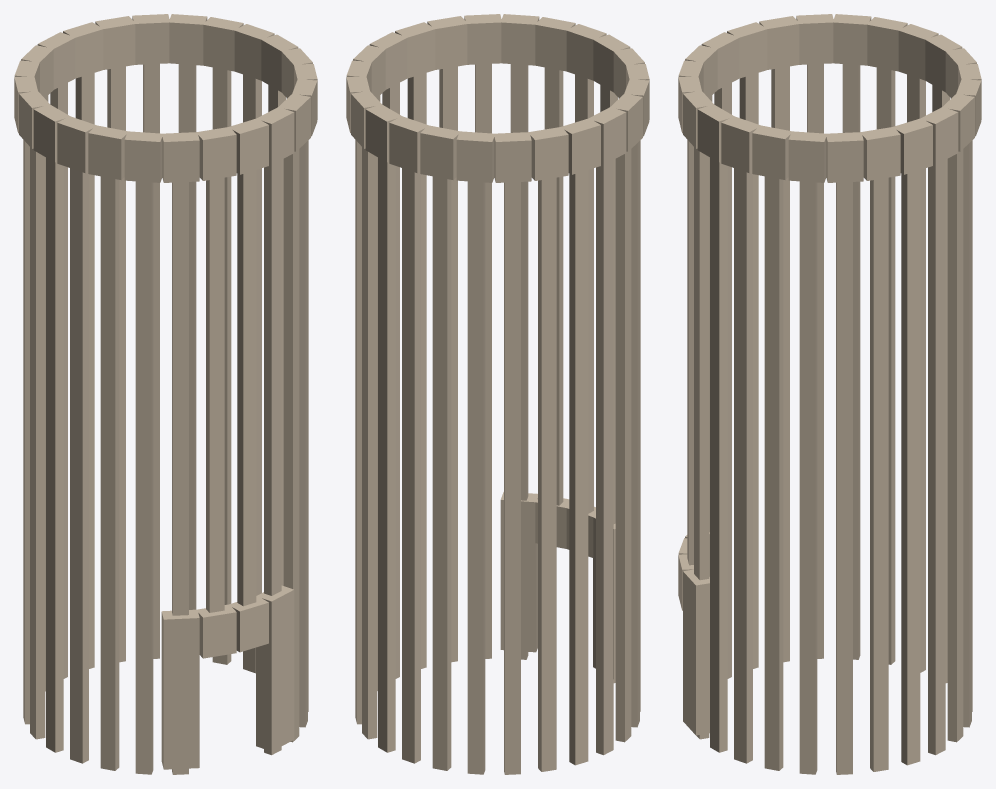
The model's file is Mighty Leelo (4).glb.
3 views of the same model, side by side, from view 1: azimuth 30°, elevation 25°; view 2: azimuth 150°, elevation 25°; view 3: azimuth 270°, elevation 25° (orthographic).
Parts seen in each view (by area): view 1: Mesh_Mesh_head_geo.001_lambert2SG.001; view 2: Mesh_Mesh_head_geo.001_lambert2SG.001; view 3: Mesh_Mesh_head_geo.001_lambert2SG.001.
Part boxes in pixels (x1,y1,x2,y2): Mesh_Mesh_head_geo.001_lambert2SG.001: [14, 14, 317, 774]; Mesh_Mesh_head_geo.001_lambert2SG.001: [346, 14, 649, 774]; Mesh_Mesh_head_geo.001_lambert2SG.001: [678, 14, 981, 774].
Bounding box in the file's own units: 0.00993 × 0.023 × 0.00993.
